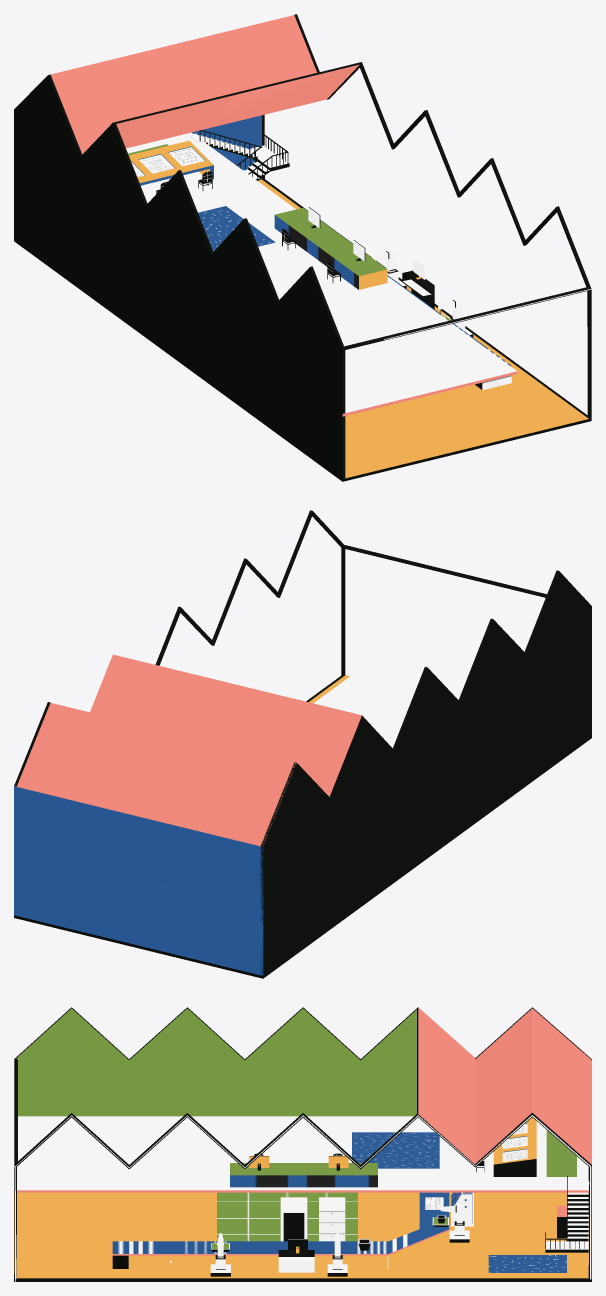
File: 生产工厂1.fbx
3 renders of one model, top to bottom at view 1: azimuth 30°, elevation 25°; view 2: azimuth 150°, elevation 25°; view 3: azimuth 270°, elevation 25°, orthographic. The views are drawn at different scales.
Visible parts, largest first — view 1: 封顶_1_1, 电脑桌, 斜桌, stairs2, 小地毯, L形操作台; view 2: 封顶_1_1; view 3: 封顶_1_1, 折型桌子, 大地毯, 电脑桌, 小地毯, 斜桌, stairs2, 小地毯_2, 右_箱子, 左_箱子1, 大地毯_, L形操作台 (+4 smaller).
Boxes of the visible parts, box(x1,y1,x2,y2) form: 封顶_1_1: box(14, 14, 591, 481); 电脑桌: box(274, 207, 387, 289); 斜桌: box(128, 140, 213, 185); stairs2: box(186, 130, 289, 180); 小地毯: box(198, 206, 275, 251); L形操作台: box(402, 270, 434, 308); 封顶_1_1: box(14, 510, 591, 978); 封顶_1_1: box(14, 1007, 591, 1281); 折型桌子: box(112, 1192, 449, 1268); 大地毯: box(217, 1192, 357, 1241); 电脑桌: box(230, 1163, 377, 1187); 小地毯: box(352, 1132, 439, 1168); 斜桌: box(493, 1117, 536, 1176); stairs2: box(545, 1175, 588, 1252); 小地毯_2: box(488, 1255, 566, 1272); 右_箱子: box(280, 1197, 307, 1241); 左_箱子1: box(319, 1197, 345, 1241); 大地毯_: box(546, 1130, 576, 1176); L形操作台: box(278, 1250, 314, 1272).
Size of the model in its own units: 1401 by 1027 by 3201.
